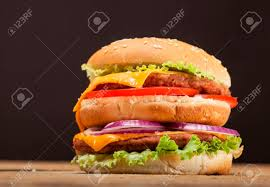hamburger: (74, 35, 238, 177)
